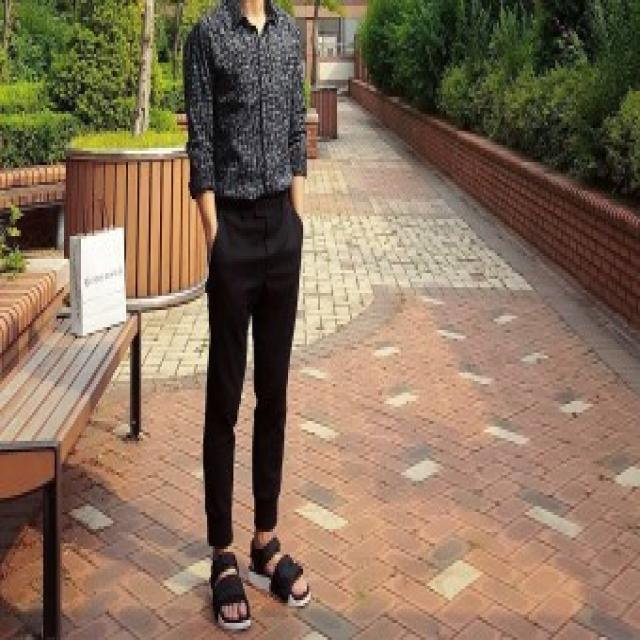no-boots: (235, 535, 320, 617), (201, 537, 250, 640)
